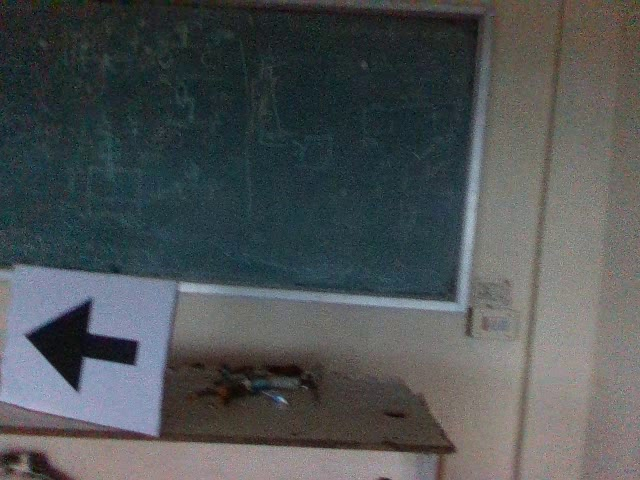Left: (17, 292, 145, 396)
